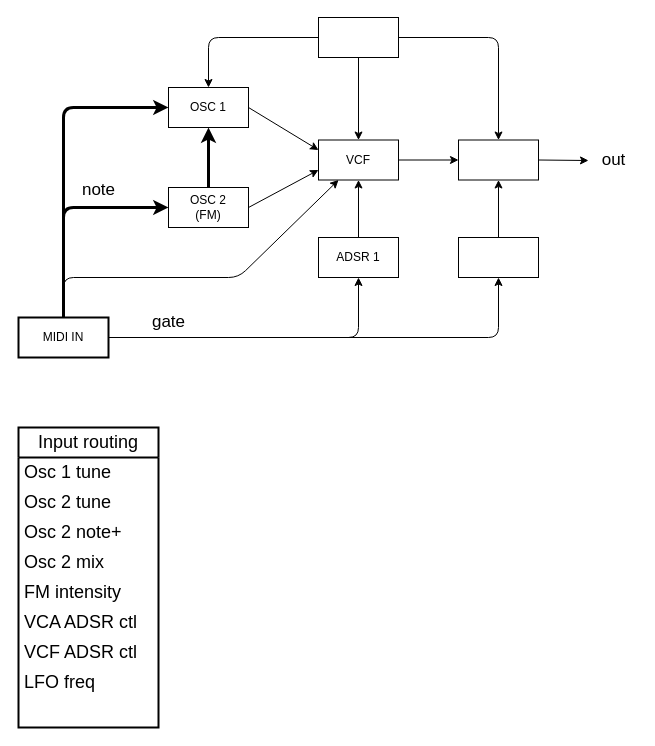
Some shapes in this 655 by 746 pixel diagram are drawn without their labels. The centre of each missing label's shape, as x and y in pixels:
"ADSR 2" goes at point (498, 257).
"LFO" goes at point (358, 37).
"VCA" goes at point (498, 159).
